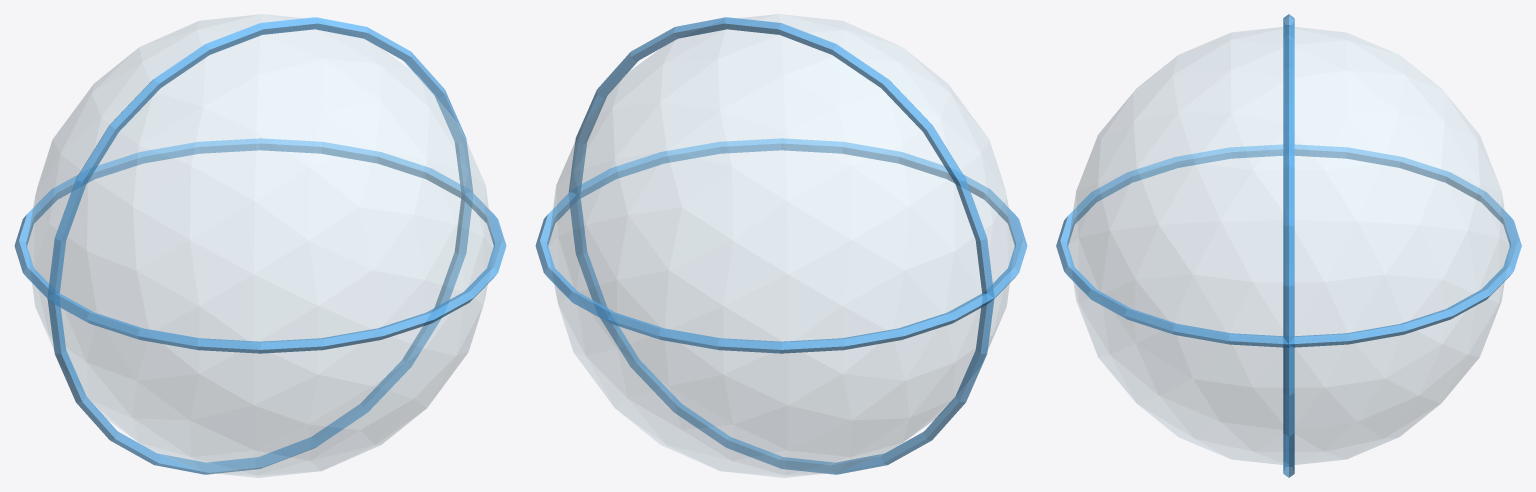
Rendered from vfx_shield_bubble_basic.glb.
3 views of the same model, side by side, from view 1: azimuth 30°, elevation 25°; view 2: azimuth 150°, elevation 25°; view 3: azimuth 270°, elevation 25° (orthographic). The views are drawn at different scales.
Visible parts, largest first — view 1: shell, equator, vertical; view 2: shell, equator, vertical; view 3: shell, vertical, equator.
Part boxes in pixels (box(x1,y1,x2,y2)): shell: box(27, 14, 493, 477); equator: box(47, 17, 473, 474); vertical: box(14, 138, 506, 353); shell: box(548, 14, 1014, 477); equator: box(568, 17, 994, 474); vertical: box(535, 138, 1027, 353); shell: box(1068, 27, 1509, 464); vertical: box(1056, 144, 1521, 347); equator: box(1283, 14, 1294, 477).
Bounding box in the file's own units: 1.68 × 1.68 × 1.68.
